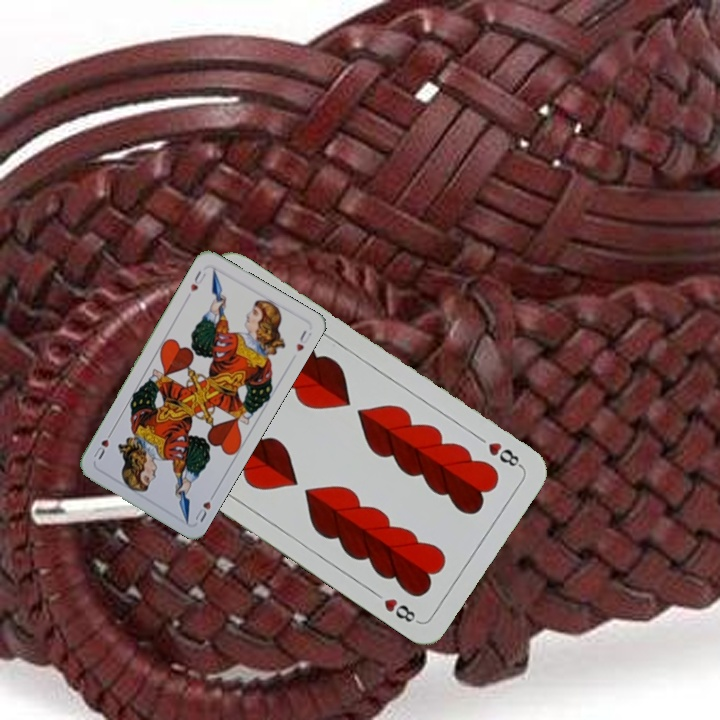H8: (484, 438, 525, 471)
HU: (191, 489, 218, 525), (186, 267, 209, 294)
